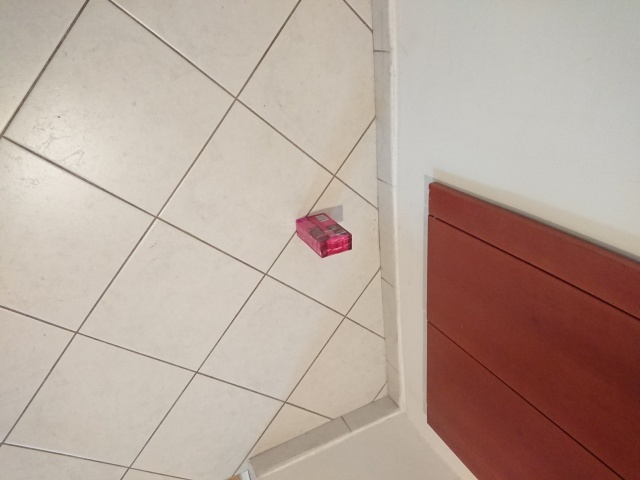Barcaffe Classic Original 225g: (294, 211, 354, 260)
